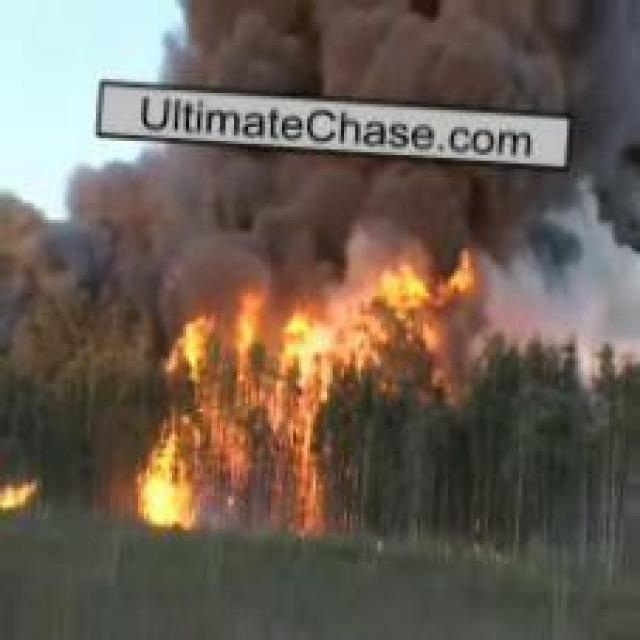fire: (137, 238, 480, 544), (0, 468, 45, 508)
smoke: (56, 6, 621, 293)
